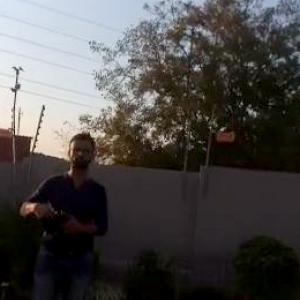follow: (15, 127, 111, 299)
